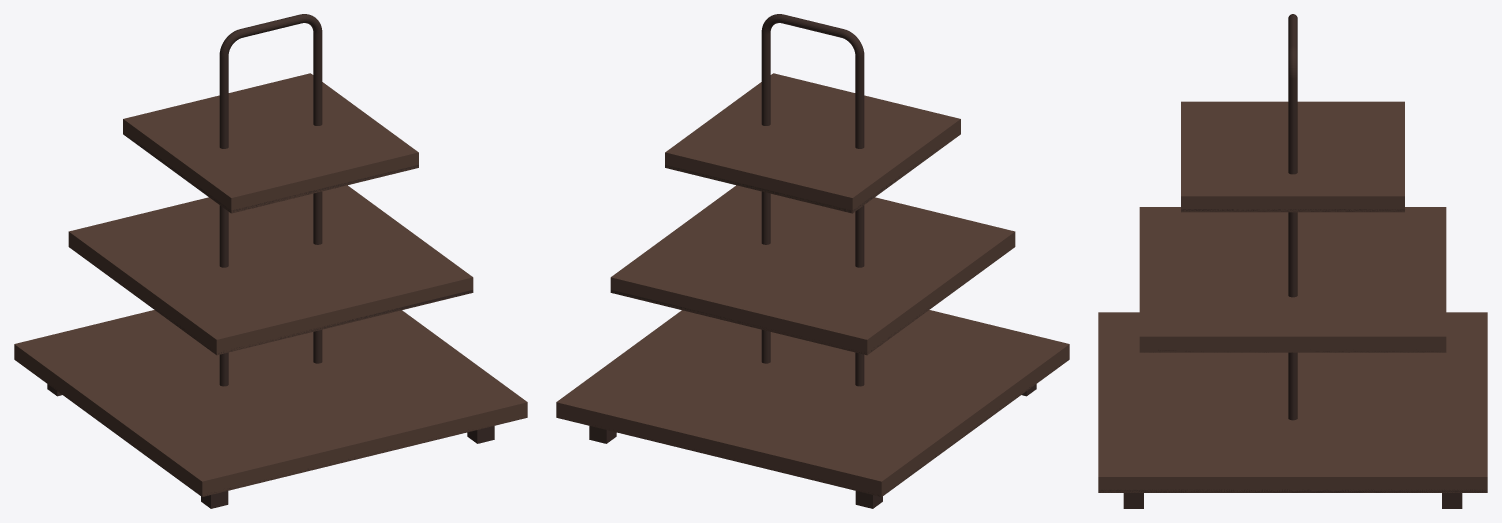
The picture shows the model from 3 angles, left to right: view 1: azimuth 30°, elevation 25°; view 2: azimuth 150°, elevation 25°; view 3: azimuth 270°, elevation 25°; orthographic projection. The views are drawn at different scales.
Visible parts, largest first — view 1: LowerTray, MiddleTray, UpperTray, FrameUpright_0, FrameUpright_1, HandleArch, UpperTrayEdge, MiddleTrayEdge; view 2: LowerTray, MiddleTray, UpperTray, FrameUpright_0, FrameUpright_1, HandleArch, UpperTrayEdge; view 3: LowerTray, MiddleTray, UpperTray, FrameUpright_1, LowerTrayEdge, HandleArch.
Part boxes in pixels (bbox=[...]): LowerTray: bbox=[14, 310, 527, 496]; MiddleTray: bbox=[68, 185, 473, 354]; UpperTray: bbox=[123, 73, 418, 213]; FrameUpright_0: bbox=[219, 56, 228, 386]; FrameUpright_1: bbox=[313, 33, 322, 363]; HandleArch: bbox=[219, 14, 322, 57]; UpperTrayEdge: bbox=[125, 135, 418, 212]; MiddleTrayEdge: bbox=[71, 248, 473, 354]; LowerTray: bbox=[556, 310, 1069, 496]; MiddleTray: bbox=[610, 185, 1015, 355]; UpperTray: bbox=[665, 73, 960, 213]; FrameUpright_0: bbox=[855, 56, 864, 386]; FrameUpright_1: bbox=[761, 33, 770, 363]; HandleArch: bbox=[761, 14, 864, 57]; UpperTrayEdge: bbox=[665, 149, 936, 212]; LowerTray: bbox=[1098, 312, 1487, 492]; MiddleTray: bbox=[1139, 207, 1446, 352]; UpperTray: bbox=[1181, 101, 1404, 212]; FrameUpright_1: bbox=[1288, 78, 1297, 420]; LowerTrayEdge: bbox=[1098, 489, 1487, 492]; HandleArch: bbox=[1288, 14, 1297, 79].
Size of the model in its own units: 0.66 by 0.76 by 0.66.
